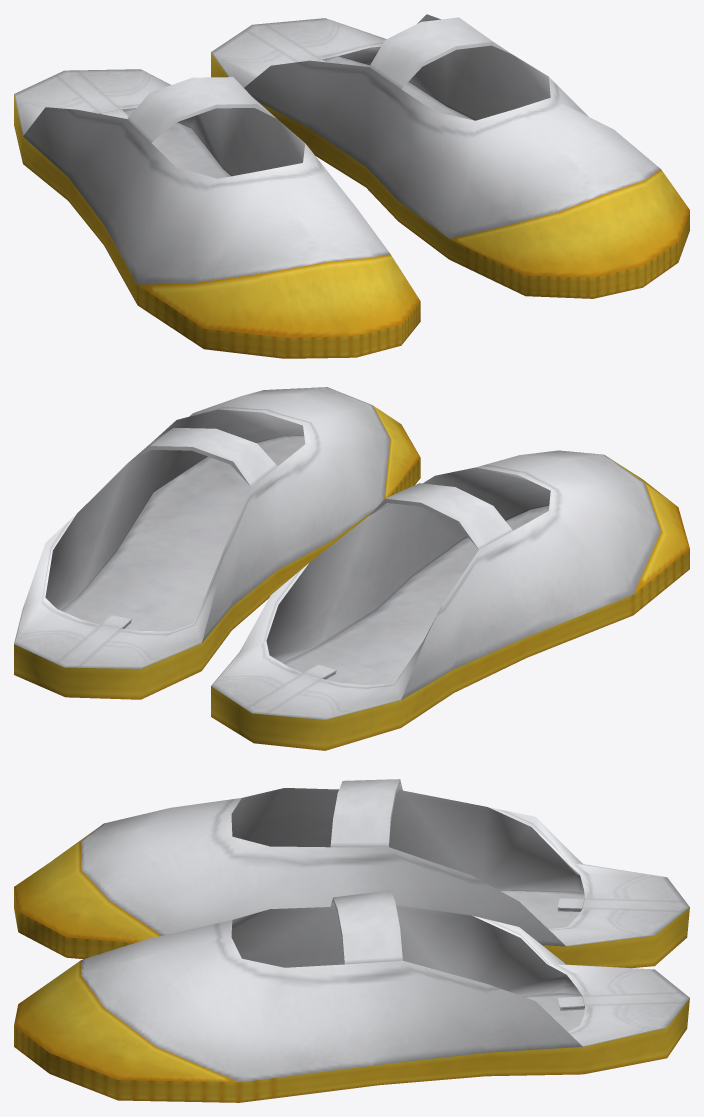
The model's file is set_indoorshoes_05_b.fbx.
3 views of the same model, one above another, from view 1: azimuth 30°, elevation 25°; view 2: azimuth 150°, elevation 25°; view 3: azimuth 270°, elevation 25° (orthographic).
Parts seen in each view (by area): view 1: indoorshoes_05_b_L, indoorshoes_05_b_R; view 2: indoorshoes_05_b_R, indoorshoes_05_b_L; view 3: indoorshoes_05_b_L, indoorshoes_05_b_R.
Part boxes in pixels (x1=…): indoorshoes_05_b_L: x1=211, y1=14, x2=689, y2=298; indoorshoes_05_b_R: x1=14, y1=69, x2=420, y2=358; indoorshoes_05_b_R: x1=211, y1=450, x2=689, y2=750; indoorshoes_05_b_L: x1=14, y1=387, x2=420, y2=699; indoorshoes_05_b_L: x1=14, y1=890, x2=689, y2=1102; indoorshoes_05_b_R: x1=14, y1=779, x2=689, y2=967.
Bounding box in the file's own units: 21.31 × 5.65 × 25.41.
